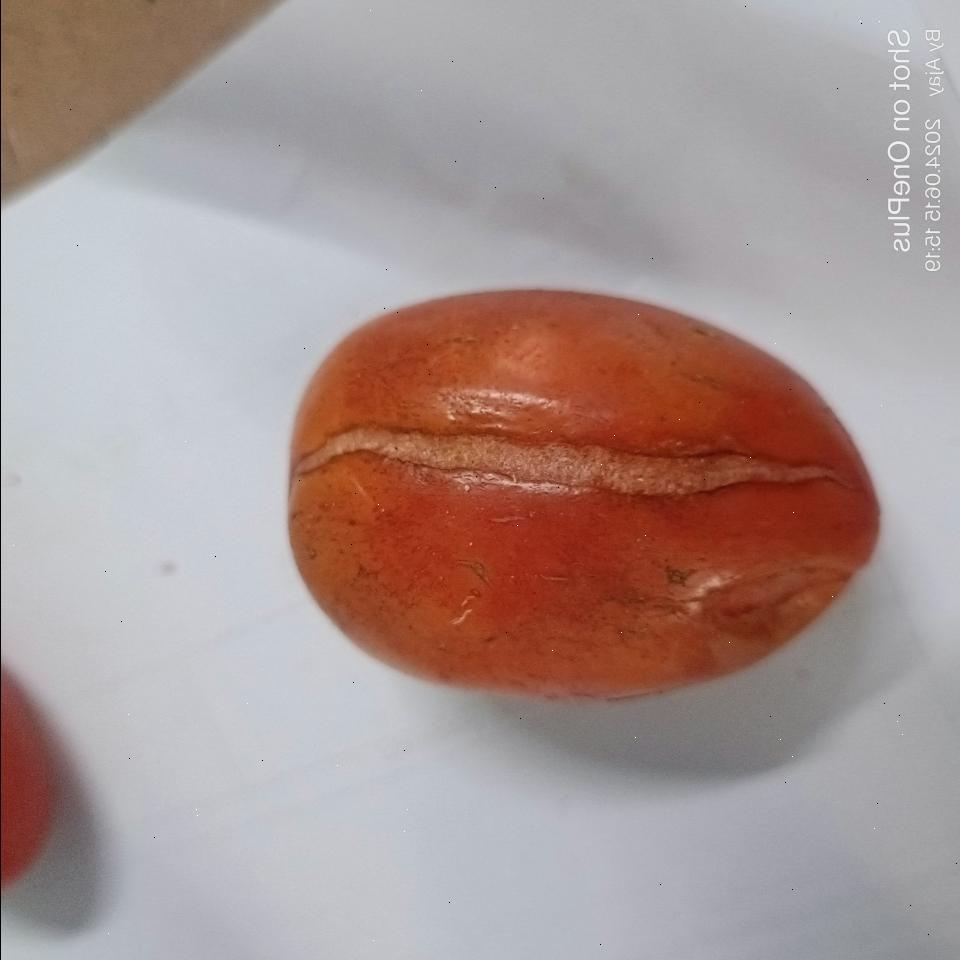Cracking: (283, 413, 847, 505)
